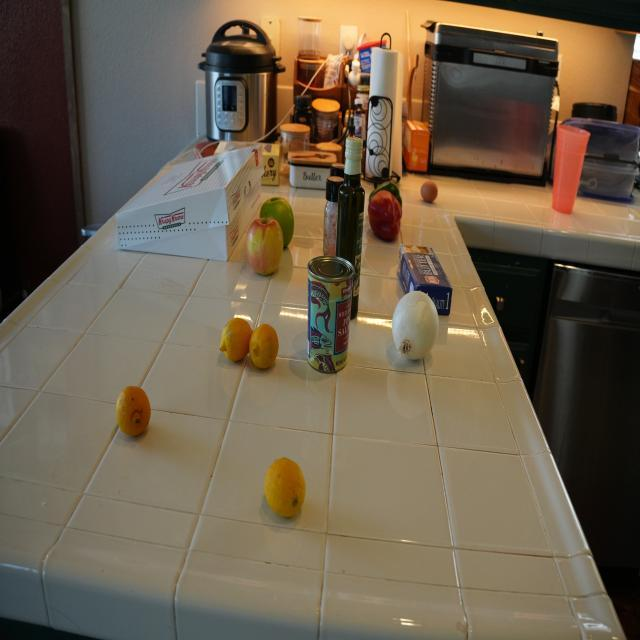bell_pepper: (370, 193, 403, 241), (374, 180, 404, 217)
egg: (422, 180, 440, 205)
onion: (393, 291, 443, 363)
